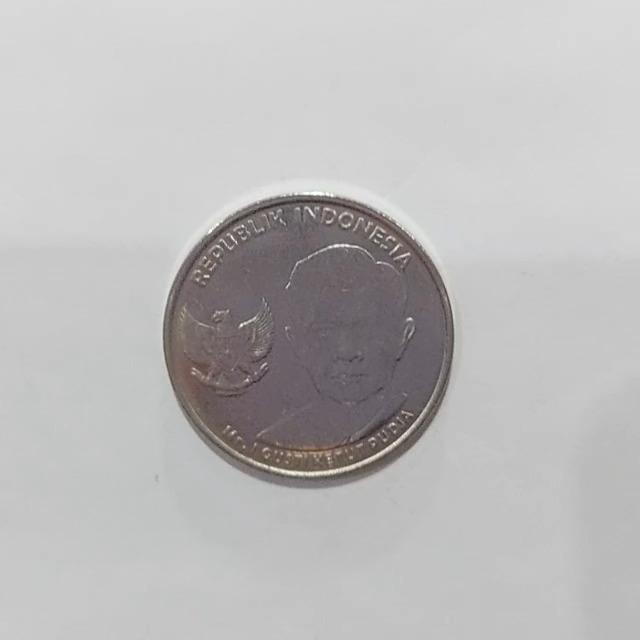Rp100: (160, 187, 455, 484)
